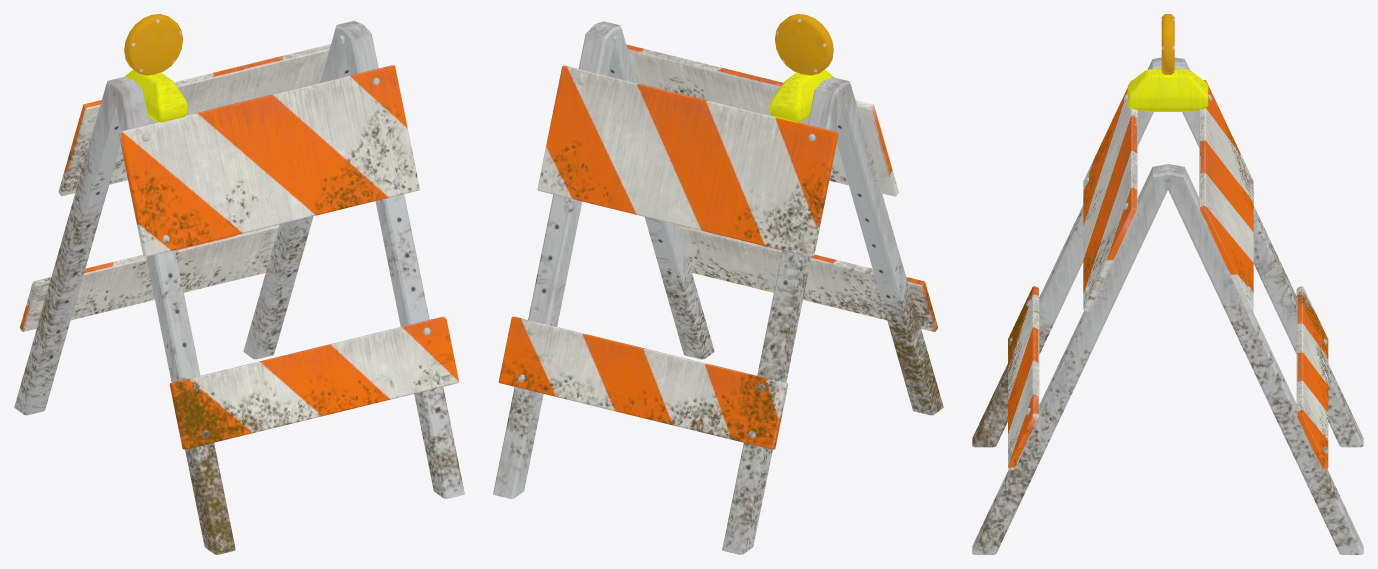
Rendered from barricade-type-2-light.glb.
The picture shows the model from 3 angles, left to right: view 1: azimuth 30°, elevation 25°; view 2: azimuth 150°, elevation 25°; view 3: azimuth 270°, elevation 25°; orthographic projection. The views are drawn at different scales.
Parts seen in each view (by area): view 1: polySurface6; view 2: polySurface6; view 3: polySurface6.
Boxes of the visible parts, left/top/right/bottom form: polySurface6: left=14, top=14, right=464, bottom=554; polySurface6: left=493, top=14, right=943, bottom=554; polySurface6: left=972, top=14, right=1363, bottom=554.
Size of the model in its own units: 1.26 by 2 by 1.62.
1 material, 1 textured.
